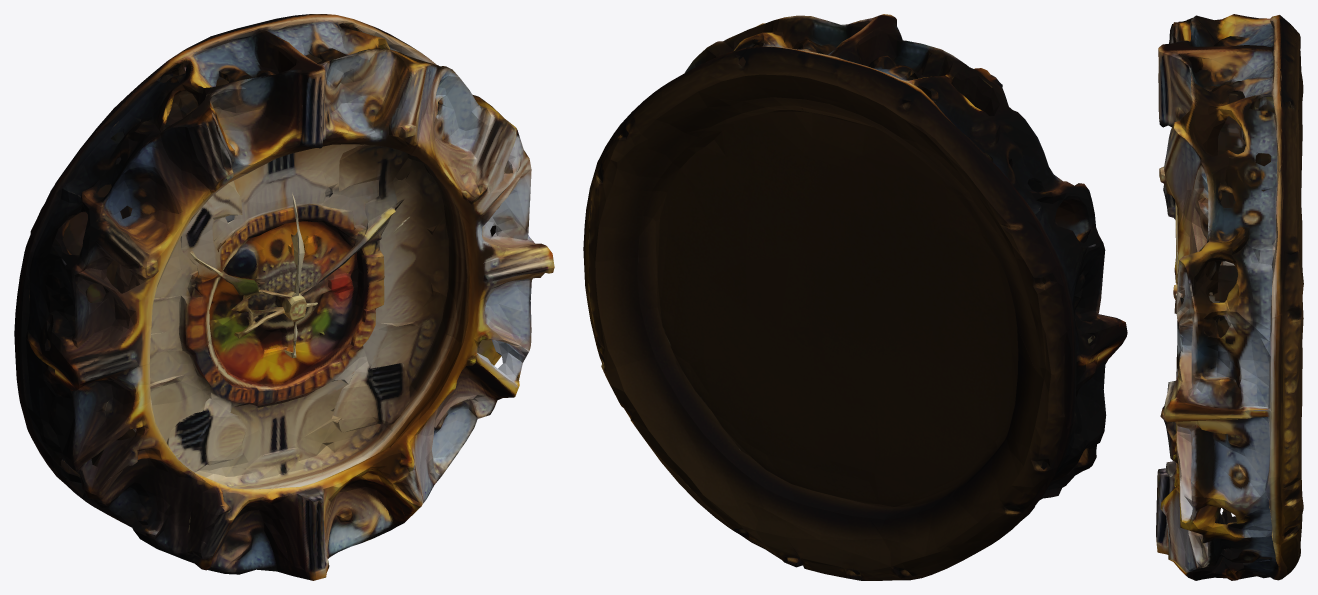
File: ceramic-wall-clock-3d.jpeg.glb
3 views of the same model, side by side, from view 1: azimuth 30°, elevation 25°; view 2: azimuth 150°, elevation 25°; view 3: azimuth 270°, elevation 25° (orthographic).
Parts seen in each view (by area): view 1: world; view 2: world; view 3: world.
Boxes of the visible parts, left/top/right/bottom form: world: left=14, top=14, right=554, bottom=580; world: left=583, top=14, right=1127, bottom=580; world: left=1156, top=14, right=1303, bottom=580.
Size of the model in its own units: 0.997 by 0.9993 by 0.2655.
Materials: 1 (1 with a texture image).
